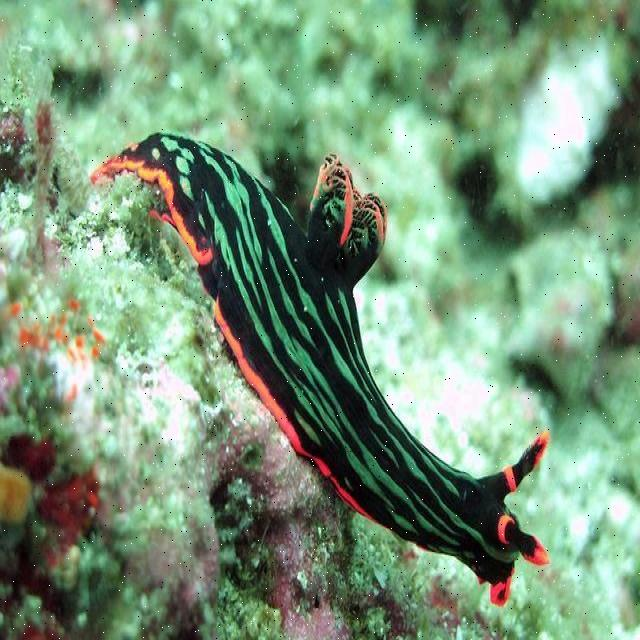reefs: (90, 129, 551, 605)
